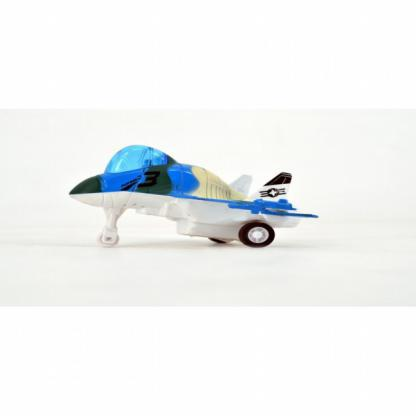CIV_Plane: (53, 138, 302, 254)
